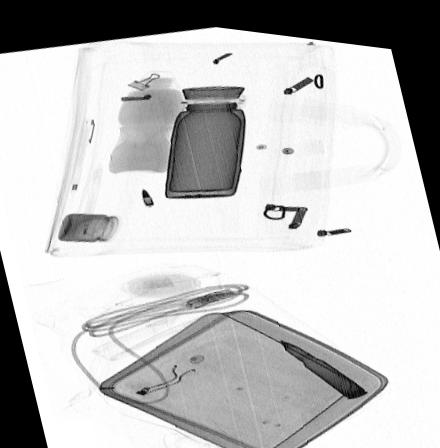Bullet: (279, 331, 368, 389), (140, 182, 155, 202)
